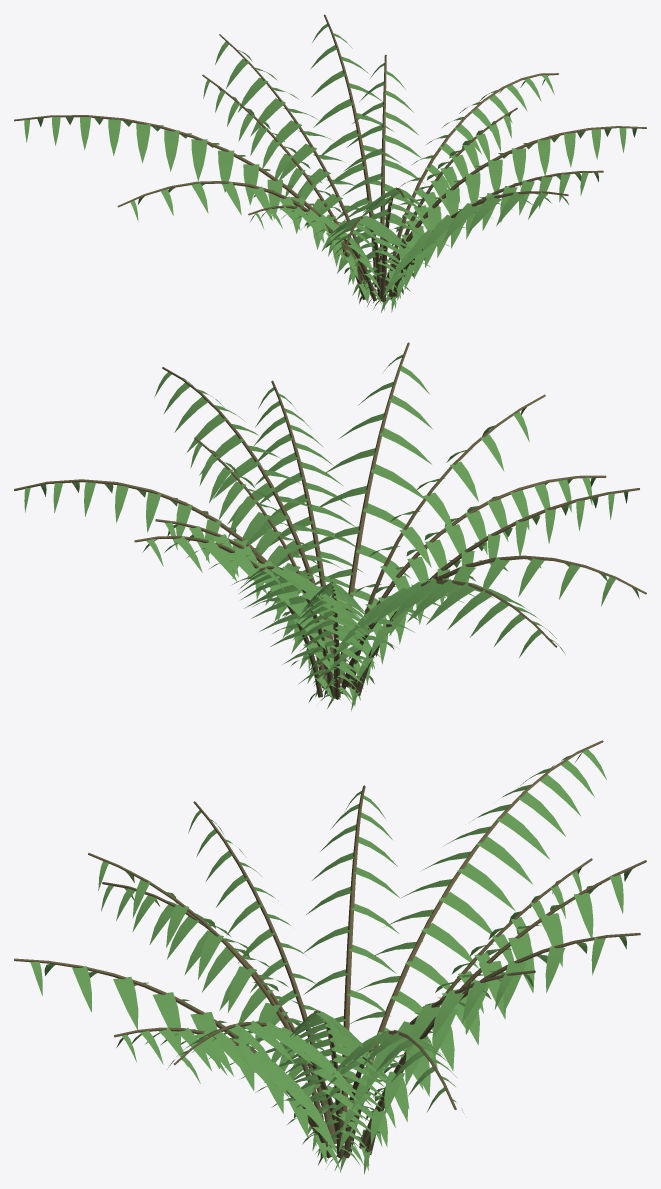
File: fern_5.fbx
The picture shows the model from 3 angles, top to bottom: view 1: azimuth 30°, elevation 25°; view 2: azimuth 150°, elevation 25°; view 3: azimuth 270°, elevation 25°; orthographic projection. The views are drawn at different scales.
Visible parts, largest first — view 1: fern_5; view 2: fern_5; view 3: fern_5.
Boxes of the visible parts, x1,y1,x2,y2 form: fern_5: (14, 14, 646, 312); fern_5: (14, 342, 646, 711); fern_5: (14, 740, 646, 1174).
Bounding box in the file's own units: 0.9073 × 0.3579 × 0.7505.
